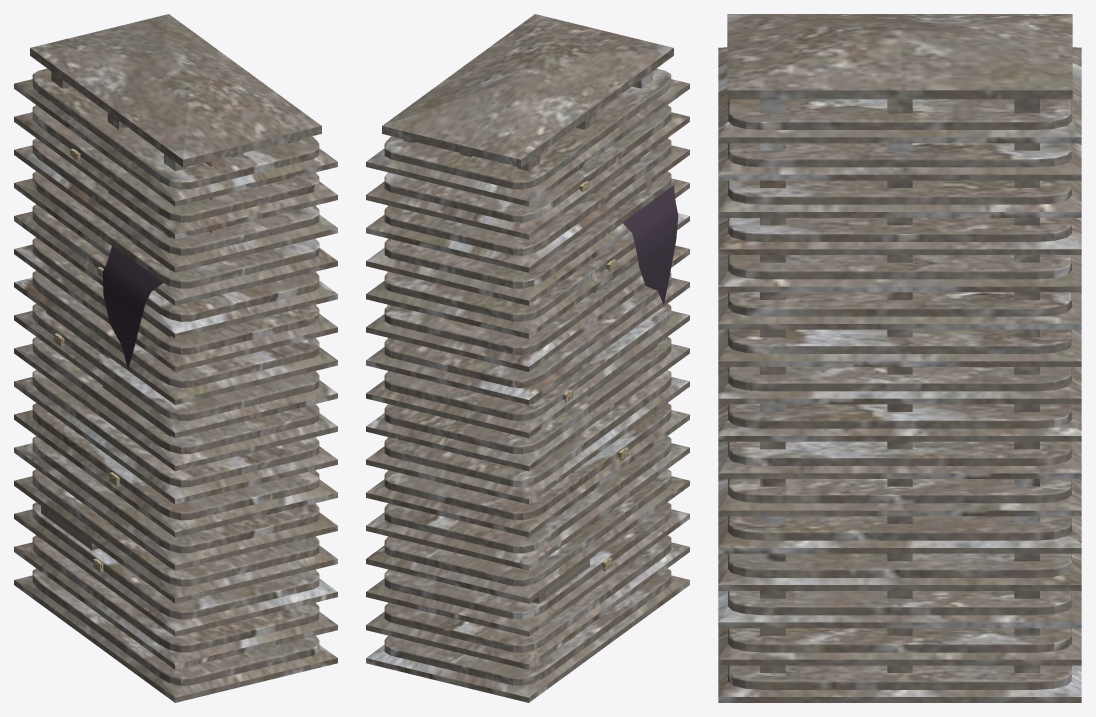
File: BuildingOne_2.glb
3 views of the same model, side by side, from view 1: azimuth 30°, elevation 25°; view 2: azimuth 150°, elevation 25°; view 3: azimuth 270°, elevation 25° (orthographic). The views are drawn at different scales.
Parts seen in each view (by area): view 1: Cube.002, Plane.003; view 2: Cube.002, Plane.003, Cube.004; view 3: Cube.002.
Part boxes in pixels (bbox=[...]): Cube.002: bbox=[14, 14, 337, 702]; Plane.003: bbox=[102, 245, 163, 369]; Cube.002: bbox=[366, 14, 689, 702]; Plane.003: bbox=[622, 185, 678, 305]; Cube.004: bbox=[563, 180, 628, 571]; Cube.002: bbox=[718, 14, 1081, 702].
Bounding box in the file's own units: 33.14 × 101 × 53.35.
Materials: 7 (6 with a texture image).
